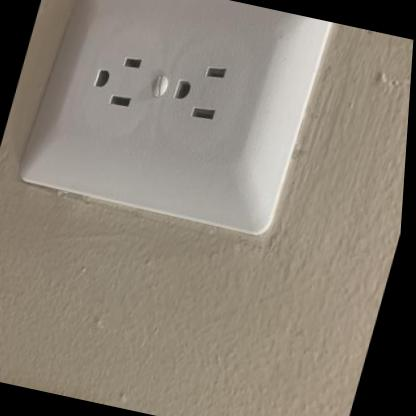OUTLET: (8, 0, 329, 239)
